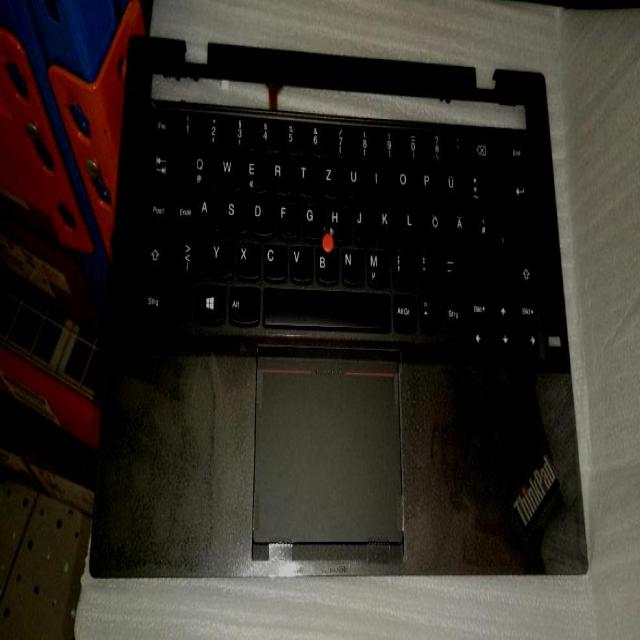0: (406, 127, 428, 165)
1: (181, 109, 205, 147)
2: (206, 111, 230, 149)
3: (233, 115, 257, 153)
4: (258, 115, 282, 153)
5: (283, 118, 307, 156)
6: (309, 120, 333, 158)
7: (334, 122, 358, 160)
8: (359, 125, 383, 163)
9: (382, 126, 406, 164)
a: (197, 195, 221, 231)
accent: (451, 132, 471, 166)
ae: (452, 211, 474, 249)
alt-left: (227, 283, 260, 325)
altgr-right: (391, 291, 416, 332)
b: (314, 246, 338, 282)
c: (262, 242, 286, 279)
comma: (391, 249, 414, 287)
d: (250, 198, 273, 236)
del: (473, 135, 502, 169)
e: (244, 156, 267, 193)
enter: (491, 173, 529, 252)
f: (276, 200, 299, 237)
g: (302, 201, 324, 238)
h: (327, 204, 350, 238)
hash: (475, 212, 499, 250)
i: (371, 167, 393, 203)
j: (353, 205, 375, 243)
k: (378, 207, 400, 244)
keyboard: (136, 101, 542, 362)
l: (402, 207, 425, 245)
less: (180, 236, 206, 276)
m: (365, 248, 389, 286)
minus: (441, 251, 465, 289)
n: (340, 246, 364, 283)
o: (395, 168, 417, 204)
oe: (427, 208, 450, 248)
p: (419, 169, 442, 205)
plus: (469, 171, 491, 208)
point: (416, 249, 440, 289)
q: (191, 152, 215, 190)
r: (270, 158, 293, 194)
s: (224, 197, 248, 235)
shift-left: (145, 236, 179, 275)
shift-lock: (149, 192, 194, 231)
shift-right: (466, 253, 532, 291)
space: (261, 288, 391, 328)
ss: (429, 129, 449, 167)
strg-left: (142, 280, 192, 321)
strg-right: (442, 293, 467, 334)
t: (296, 161, 319, 197)
tab: (150, 150, 189, 187)
u: (346, 164, 368, 200)
ue: (444, 170, 466, 207)
v: (289, 244, 312, 281)
w: (218, 154, 242, 191)
x: (236, 239, 260, 279)
y: (208, 238, 233, 276)
z: (322, 163, 344, 197)
